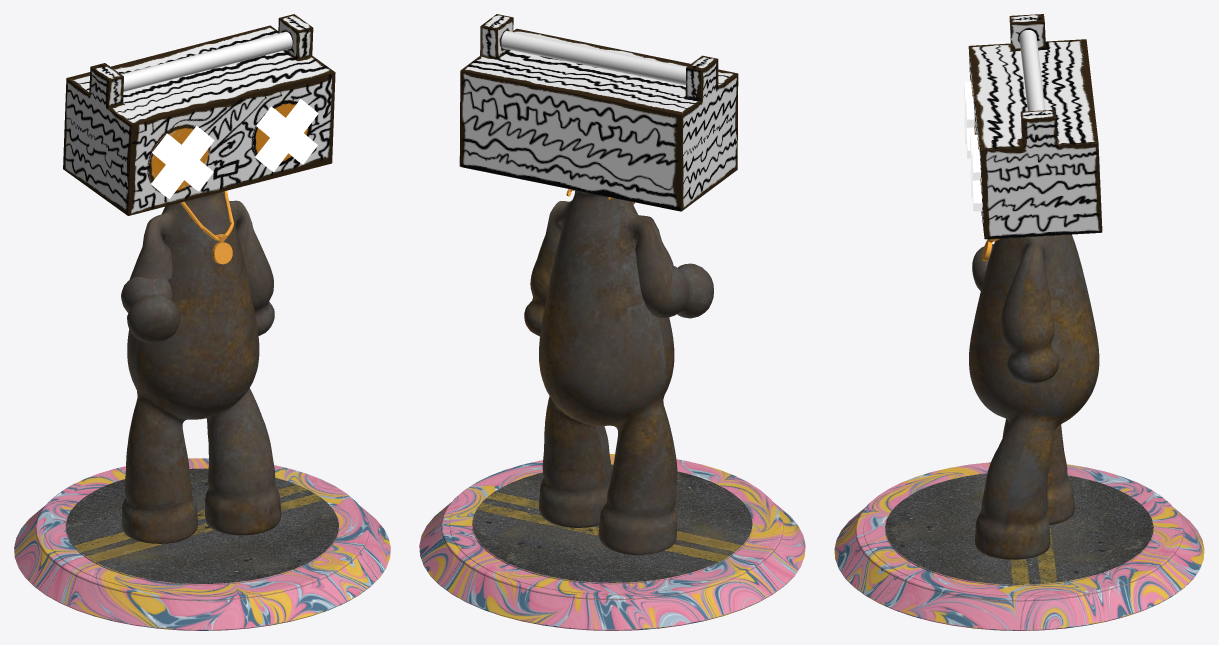
The model's file is 238_sanitized.glb.
3 views of the same model, side by side, from view 1: azimuth 30°, elevation 25°; view 2: azimuth 150°, elevation 25°; view 3: azimuth 270°, elevation 25° (orthographic). The views are drawn at different scales.
Parts seen in each view (by area): view 1: BBody; view 2: BBody; view 3: BBody.
Part boxes in pixels (x1=…): BBody: x1=14, y1=14, x2=390, y2=630; BBody: x1=419, y1=14, x2=805, y2=630; BBody: x1=834, y1=14, x2=1204, y2=630.
Bounding box in the file's own units: 1.45 × 2.12 × 1.45.
Materials: 6 (5 with a texture image).
